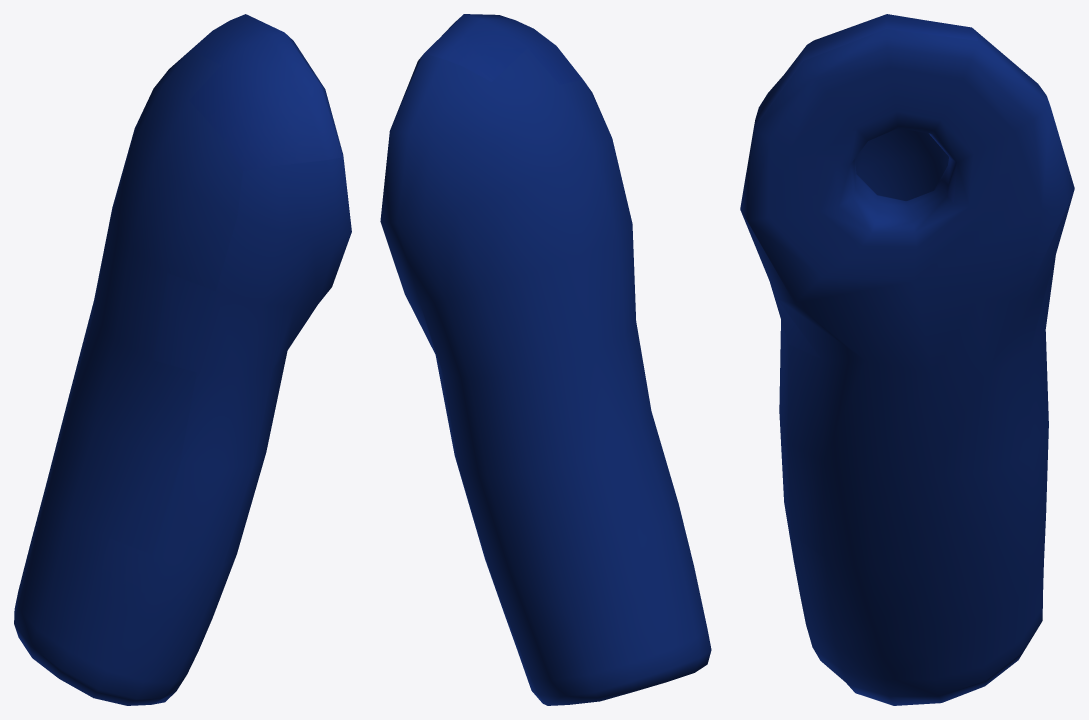
The model's file is hombroderecha.obj.
The picture shows the model from 3 angles, left to right: view 1: azimuth 30°, elevation 25°; view 2: azimuth 150°, elevation 25°; view 3: azimuth 270°, elevation 25°; orthographic projection. The views are drawn at different scales.
Visible parts, largest first — view 1: Mesh0.001; view 2: Mesh0.001; view 3: Mesh0.001.
Part boxes in pixels (<box>): Mesh0.001: <box>14,14,351,705</box>; Mesh0.001: <box>380,14,711,705</box>; Mesh0.001: <box>740,14,1074,705</box>.
Bounding box in the file's own units: 0.1443 × 0.3429 × 0.14.
1 material, 1 textured.
